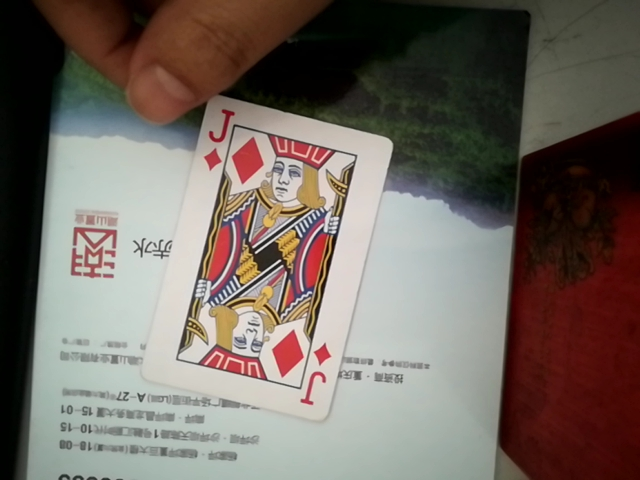fk j: (167, 94, 382, 429)
